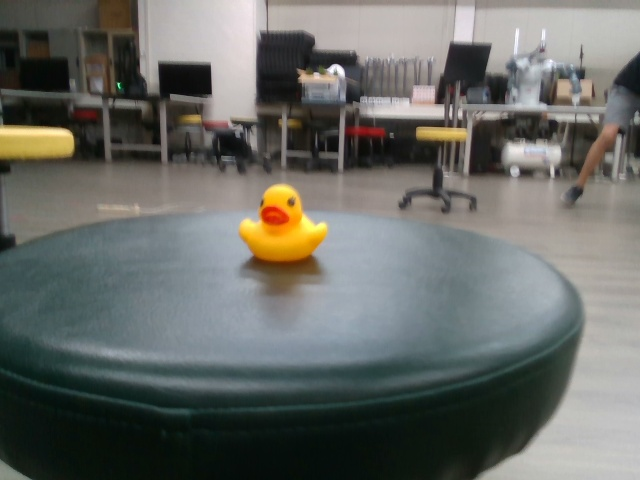duck: (236, 180, 331, 266)
